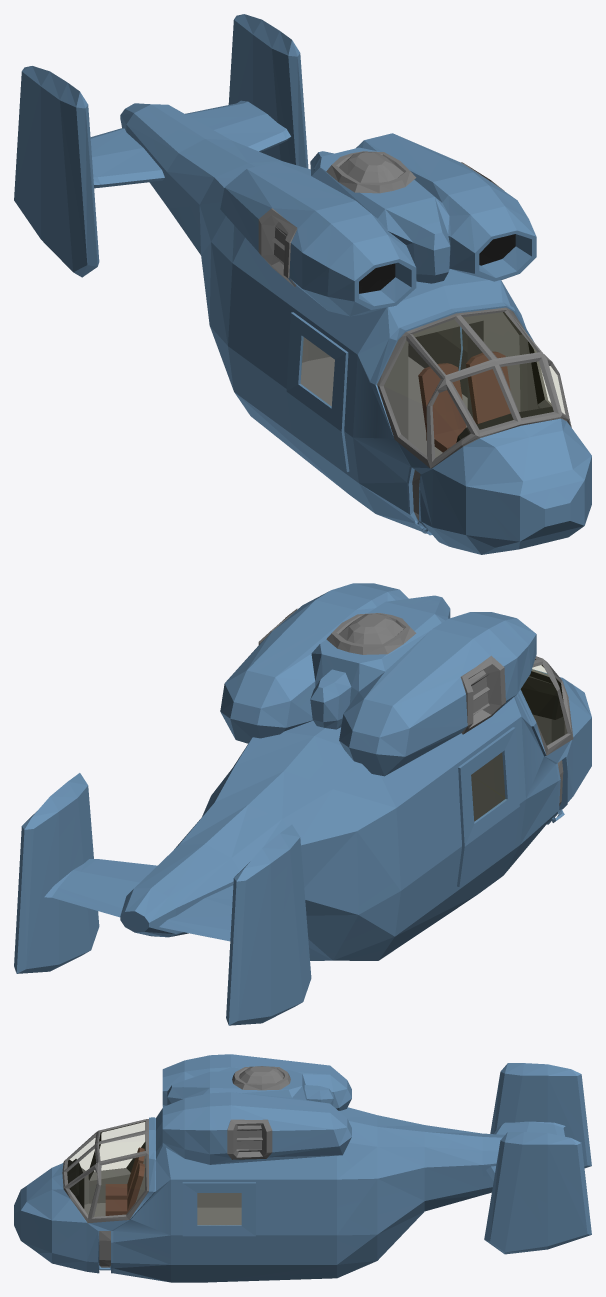
Rendered from aircraft 9.glb.
3 renders of one model, top to bottom at view 1: azimuth 30°, elevation 25°; view 2: azimuth 150°, elevation 25°; view 3: azimuth 270°, elevation 25°, orthographic. The views are drawn at different scales.
Visible parts, largest first — view 1: Fuselage, Door, Seat; view 2: Fuselage, Door; view 3: Fuselage, Door, Seat.
Boxes of the visible parts, x1,y1,x2,y2 form: Fuselage: (14,14,591,554); Door: (286,312,467,471); Seat: (418,351,510,452); Fuselage: (14,583,591,1025); Door: (457,727,519,886); Fuselage: (14,1054,591,1282); Door: (182,1182,255,1262); Seat: (105,1147,144,1215).
Bounding box in the file's own units: 3.24 × 4.19 × 10.61.
